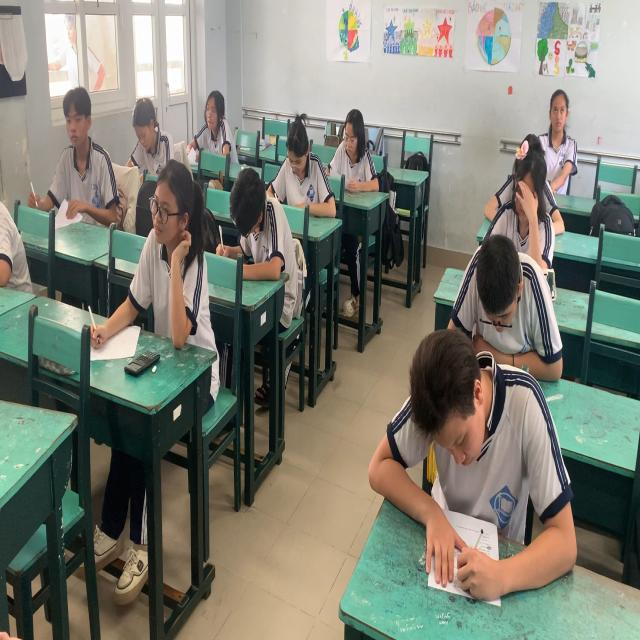not_cheating: (405, 313, 536, 522), (138, 154, 210, 320), (466, 218, 546, 366), (44, 81, 113, 228), (222, 186, 308, 297), (115, 68, 174, 176), (189, 65, 244, 169), (274, 119, 335, 200), (506, 125, 556, 218), (340, 93, 382, 185), (538, 70, 577, 169)
